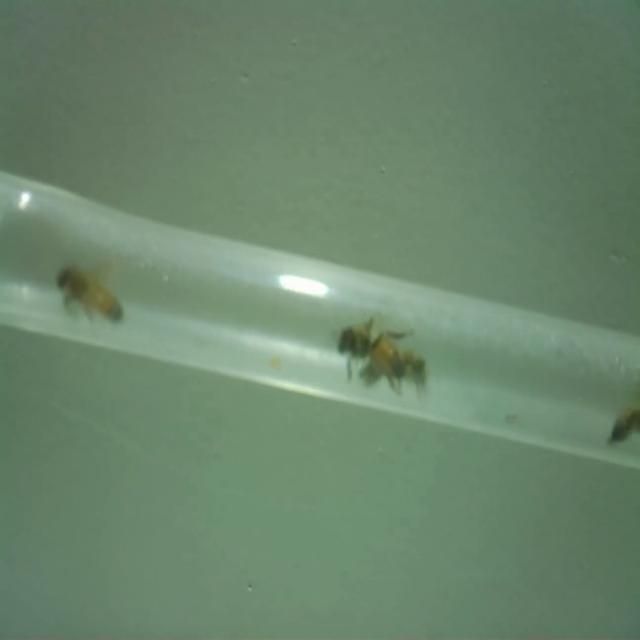Honeybee-Detection: (55, 256, 130, 327), (338, 318, 409, 392), (607, 371, 640, 445), (399, 349, 430, 396), (391, 329, 413, 341)
